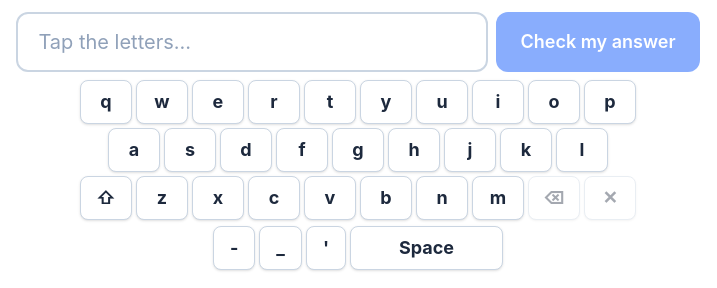
Test: SpellingInput (OnScreenKeyboard) › shift toggles to uppercase and back
The width and height of the screenshot is (717, 288).
Step 1. Click the button named "Shift" → coordinates (106, 198), box top-left (80, 176), bottom-right (132, 220)
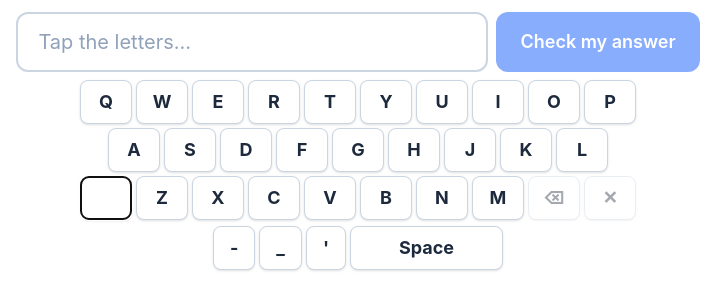
Step 2. Click the button "A" → coordinates (134, 150), box top-left (108, 128), bottom-right (160, 172)
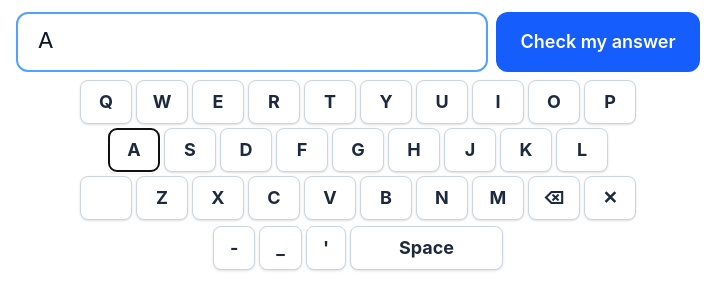
Expected: the message reads "A", top-left (38, 28), bottom-right (56, 55)
Step 3. Click the button named "Shift" → coordinates (106, 198), box top-left (80, 176), bottom-right (132, 220)
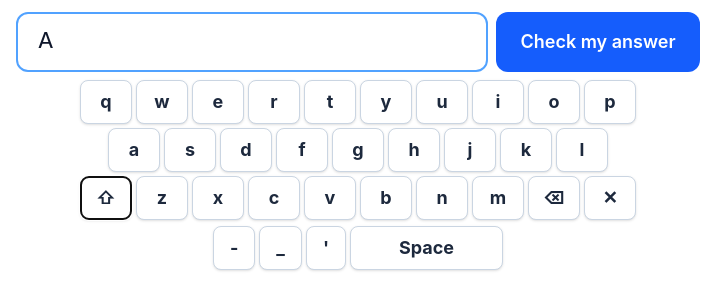
Step 4. Click the button "b" → coordinates (386, 198), box top-left (360, 176), bottom-right (412, 220)
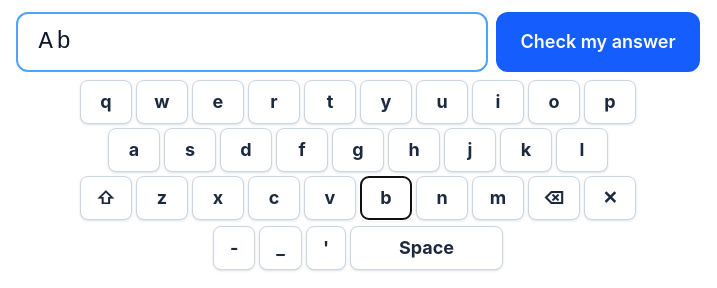
Expected: the message reads "Ab", top-left (38, 28), bottom-right (74, 55)
